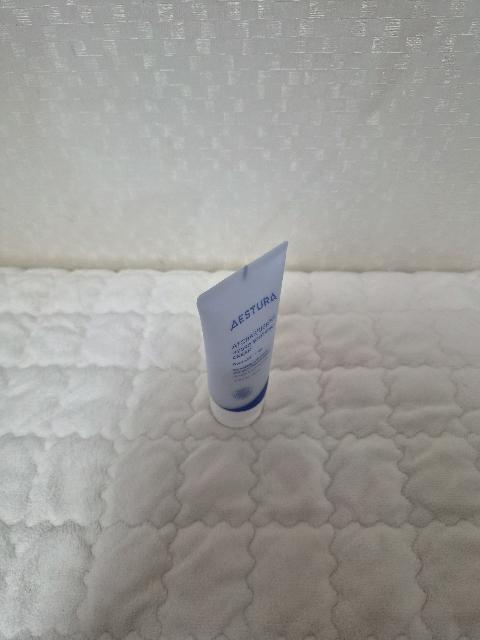handcream: (196, 240, 289, 428)
